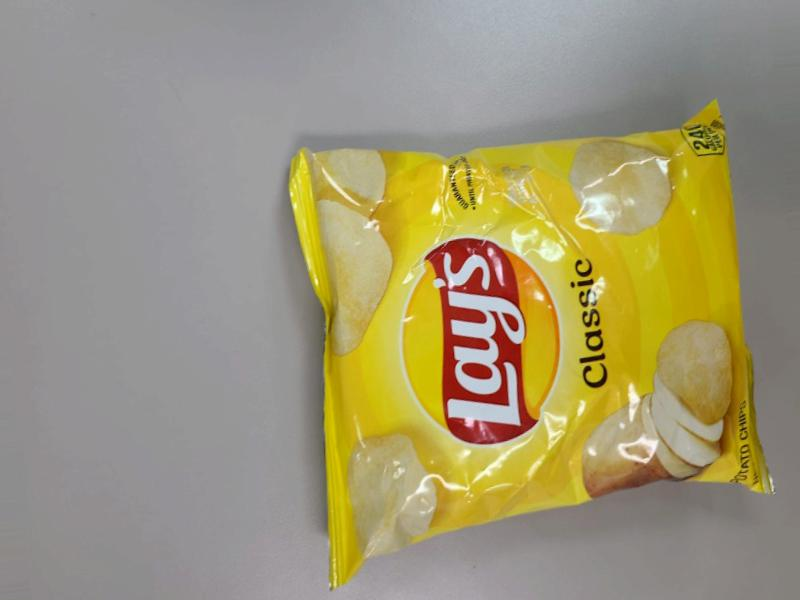lays: (331, 128, 750, 600)
